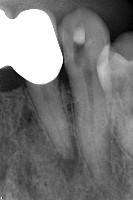Furcation Involvement: (52, 134, 83, 182)
